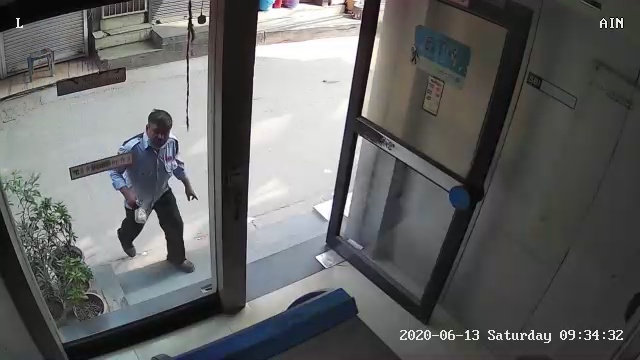open: (201, 7, 544, 338)
